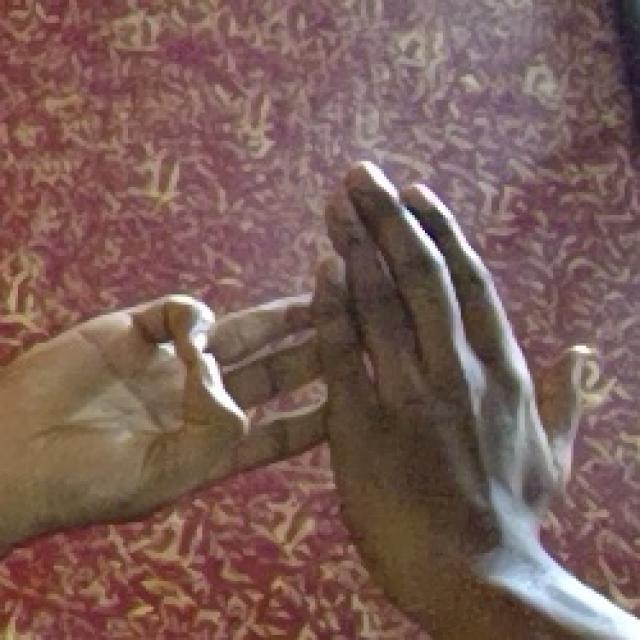Alphabet-M: (0, 133, 587, 574)
